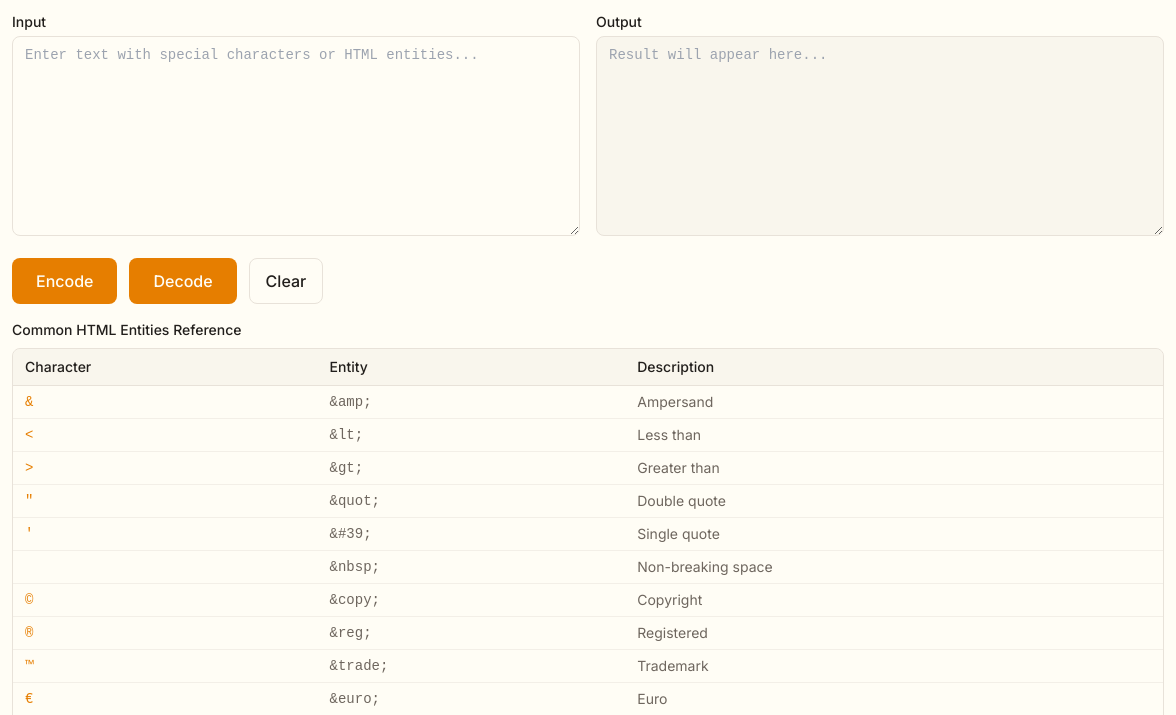
Test: HtmlEntityCodec › encodes > to &gt;
Type "a > b" into the text box with placeholder "Enter text with special characters or HTML entities..." at {"x": 296, "y": 136}, box [12, 36, 580, 236]
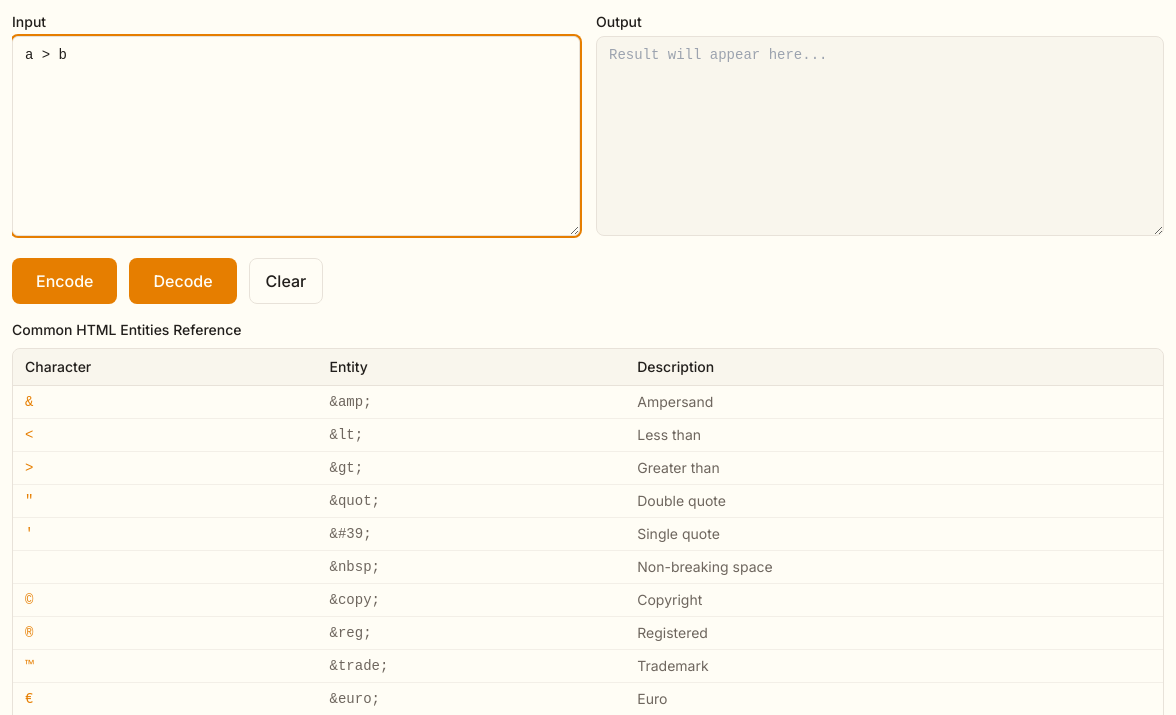
Click the button with aria-label "Encode to HTML entities" at {"x": 65, "y": 281}, box [12, 258, 118, 304]
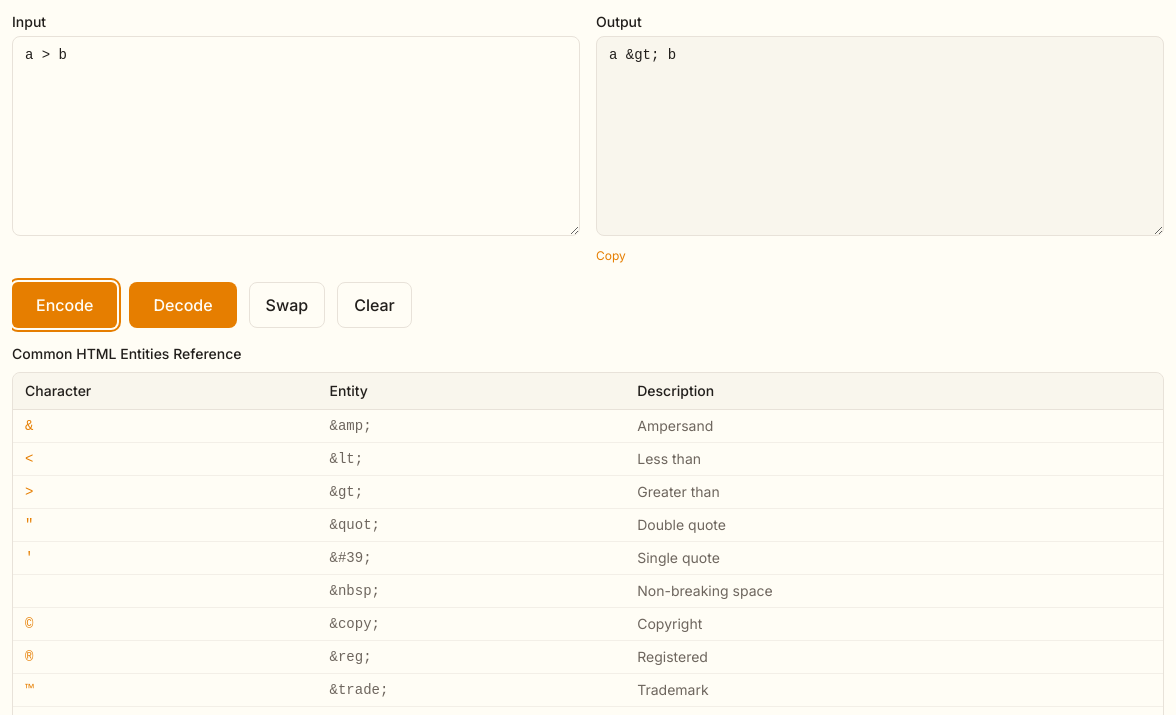
Now the text box with placeholder "Result will appear here..." holds "a &gt; b", box [596, 36, 1164, 236]
